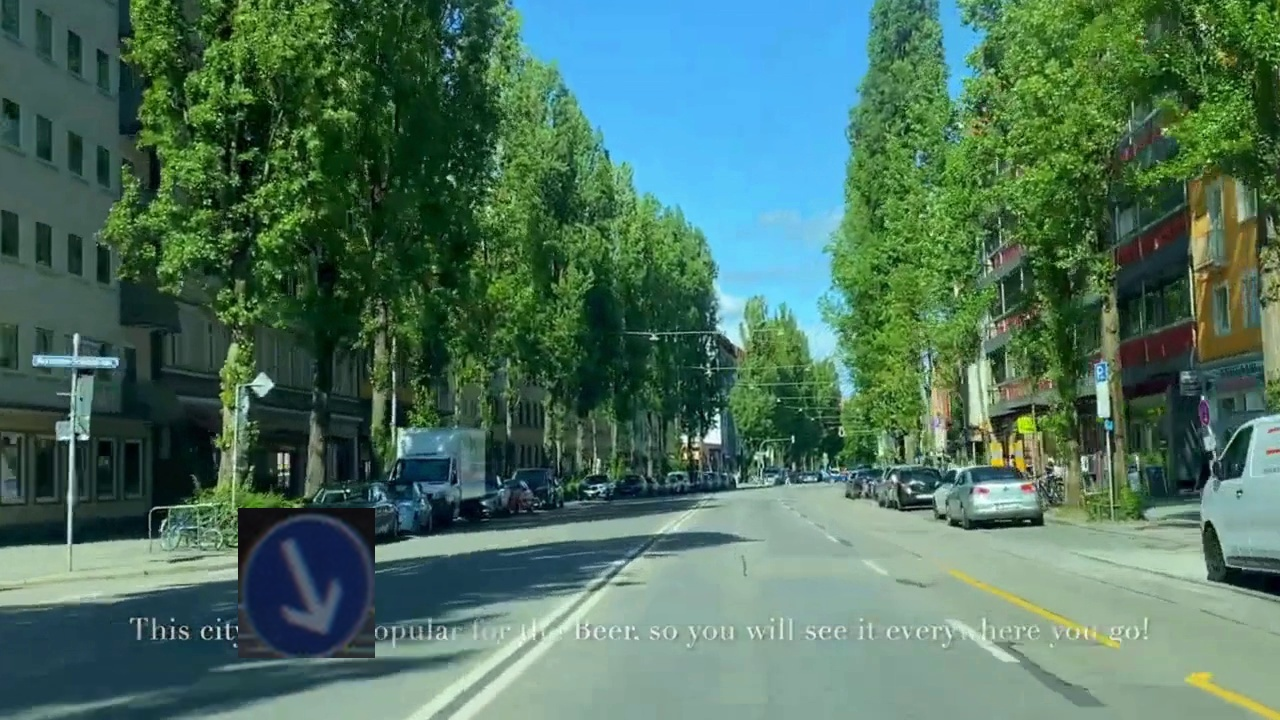Keep right: (238, 508, 375, 658)
